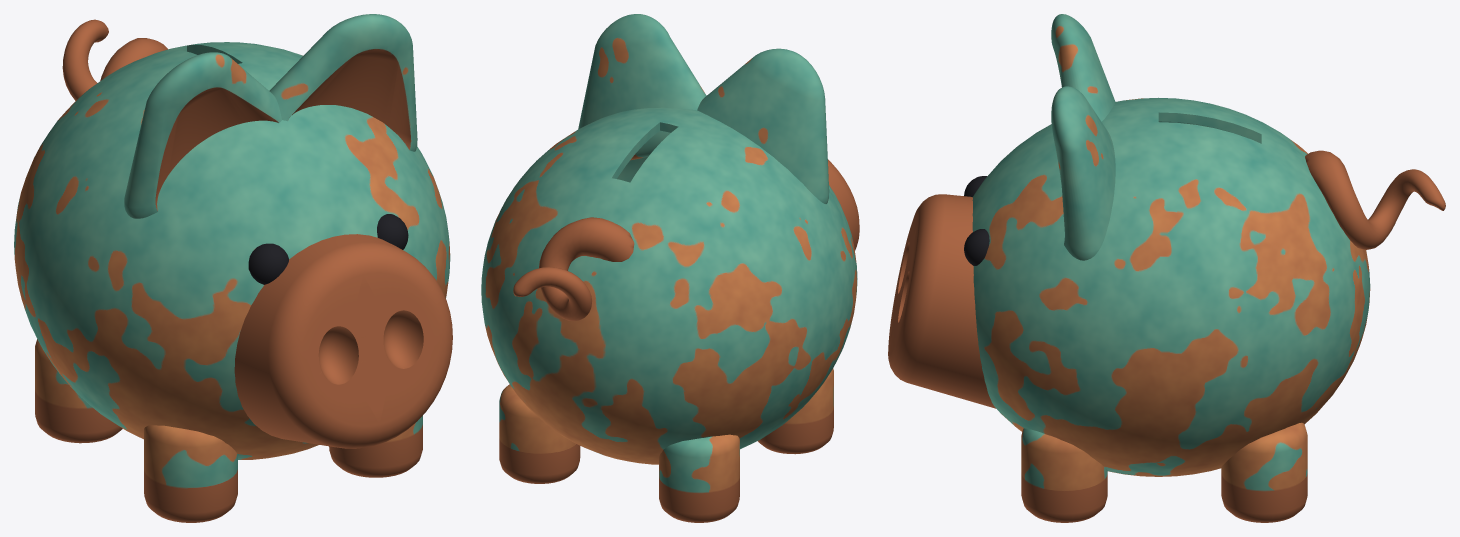
File: verdigris-og-v1-complete.fbx
The picture shows the model from 3 angles, left to right: view 1: azimuth 30°, elevation 25°; view 2: azimuth 150°, elevation 25°; view 3: azimuth 270°, elevation 25°; orthographic projection. The views are drawn at different scales.
Parts seen in each view (by area): view 1: Body, Snout, Ears, Legs, Tail, EyePreview; view 2: Body, Ears, Legs, Tail, Snout; view 3: Body, Snout, Legs, Ears, Tail, EyePreview.
Part boxes in pixels (bbox=[...]): Body: bbox=[14, 42, 450, 459]; Snout: bbox=[234, 234, 452, 448]; Ears: bbox=[124, 14, 417, 218]; Legs: bbox=[35, 339, 422, 522]; Tail: bbox=[62, 19, 167, 100]; EyePreview: bbox=[248, 214, 408, 284]; Body: bbox=[481, 107, 857, 464]; Ears: bbox=[578, 14, 829, 203]; Legs: bbox=[499, 368, 833, 522]; Tail: bbox=[513, 217, 634, 321]; Snout: bbox=[828, 159, 859, 250]; Body: bbox=[972, 97, 1370, 476]; Snout: bbox=[888, 194, 996, 408]; Legs: bbox=[1021, 422, 1307, 522]; Ears: bbox=[1051, 14, 1115, 260]; Tail: bbox=[1305, 150, 1445, 249]; EyePreview: bbox=[964, 176, 989, 265].
Bounding box in the file's own units: 1200 × 1397 × 1708.
Materials: 3 (2 with a texture image).
